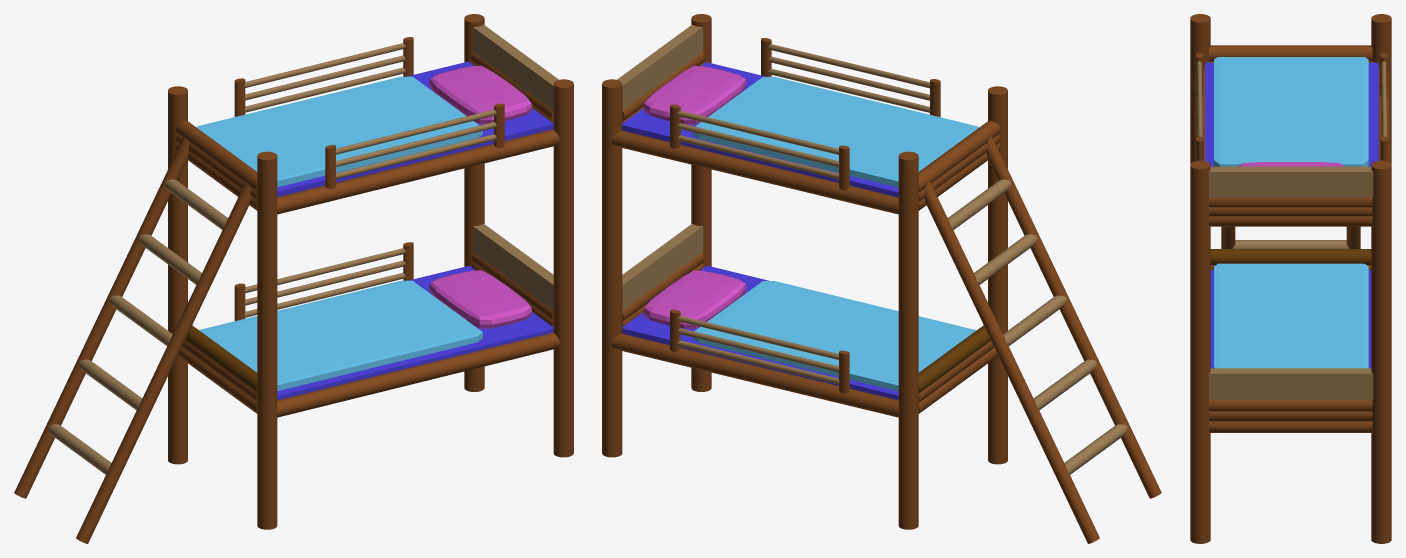
Rendered from bunk_modern.glb.
3 views of the same model, side by side, from view 1: azimuth 30°, elevation 25°; view 2: azimuth 150°, elevation 25°; view 3: azimuth 270°, elevation 25° (orthographic).
Parts seen in each view (by area): view 1: Object_2, Object_15, Object_51, Object_50, Object_3, Object_52, Object_38, Object_53, Object_39, Object_11; view 2: Object_2, Object_15, Object_50, Object_51, Object_3, Object_53, Object_52, Object_39, Object_38, Object_11; view 3: Object_2, Object_50, Object_51, Object_15, Object_3, Object_11, Object_39, Object_38, Object_53.
Part boxes in pixels (box(x1,y1,x2,y2)): Object_2: box(14, 14, 573, 543); Object_15: box(48, 24, 558, 474); Object_51: box(199, 280, 482, 390); Object_50: box(196, 76, 482, 187); Object_3: box(257, 151, 553, 529); Object_52: box(429, 270, 531, 328); Object_38: box(277, 266, 553, 400); Object_53: box(429, 65, 531, 124); Object_39: box(277, 61, 553, 196); Object_11: box(185, 325, 257, 393); Object_2: box(602, 14, 1161, 543); Object_15: box(617, 24, 1127, 474); Object_50: box(692, 76, 978, 187); Object_51: box(692, 281, 976, 391); Object_3: box(622, 86, 1007, 464); Object_53: box(643, 66, 746, 124); Object_52: box(643, 270, 746, 328); Object_39: box(622, 62, 898, 197); Object_38: box(622, 266, 898, 400); Object_11: box(918, 325, 990, 393); Object_2: box(1190, 14, 1391, 543); Object_50: box(1214, 57, 1368, 166); Object_51: box(1214, 263, 1368, 368); Object_15: box(1196, 61, 1387, 399); Object_3: box(1190, 14, 1372, 411); Object_11: box(1210, 249, 1371, 264); Object_39: box(1205, 62, 1378, 166); Object_38: box(1210, 270, 1371, 368); Object_53: box(1238, 162, 1344, 166).
Bounding box in the file's own units: 2.39 × 1.75 × 0.8534.
